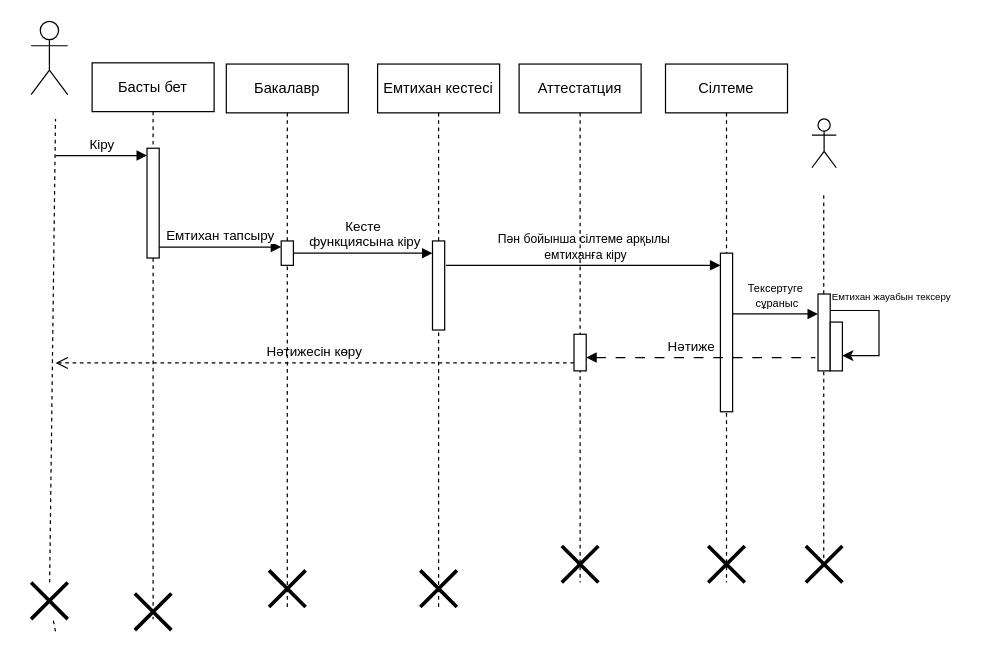
Some shapes in this 986 by 654 pixel diagram are drawn without their labels. The centre of each missing label's shape, as x and y in pixels:
"Оқытушы" goes at [823,143].
"Студент" goes at [49,57].
